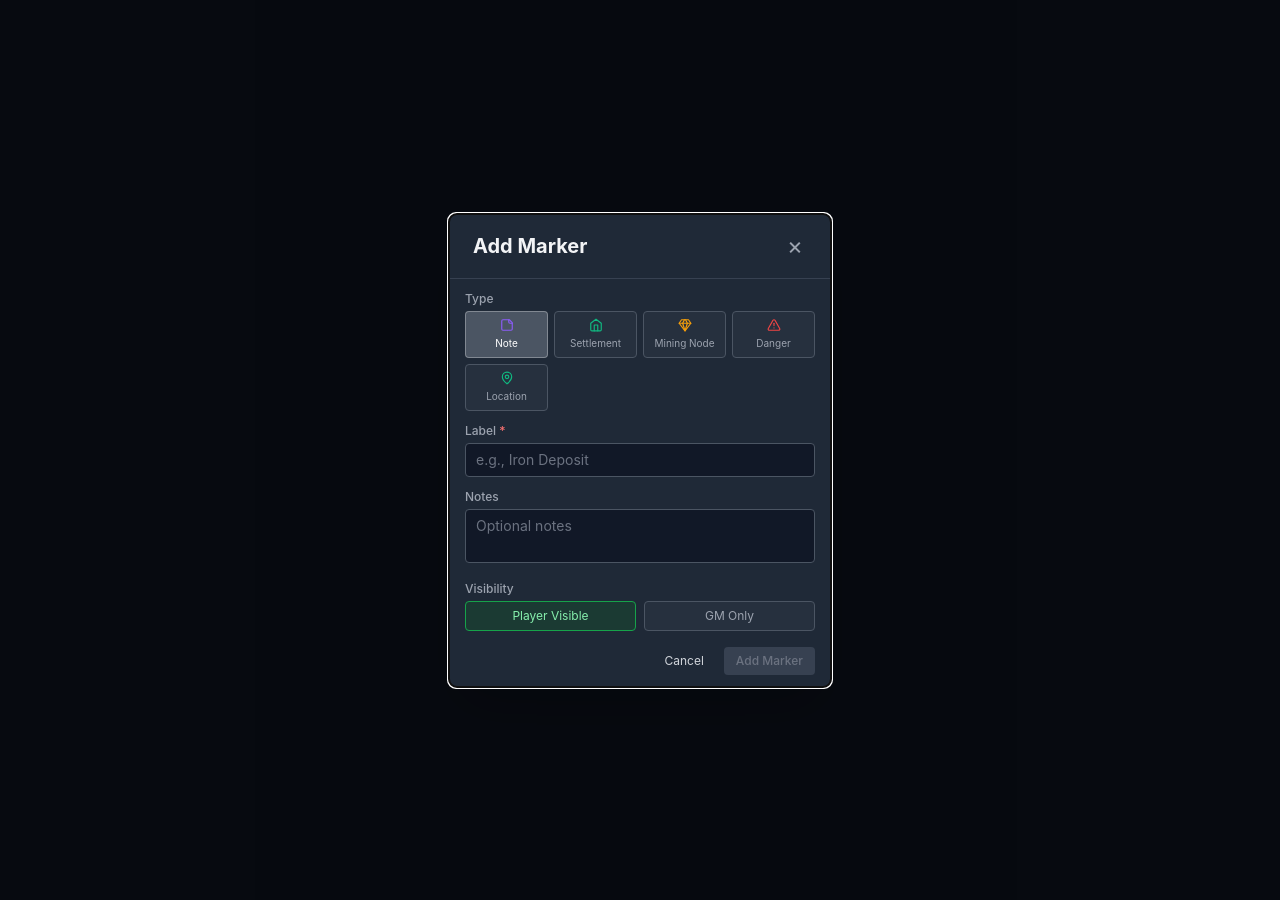
Test: MarkerEditor › validates label is required
Expected: the button "Add Marker" is disabled, [724,646,815,674]
Type "Iron Deposit" into the field with placeholder "e.g., Iron Deposit" at (640, 460), box [465,442,815,476]
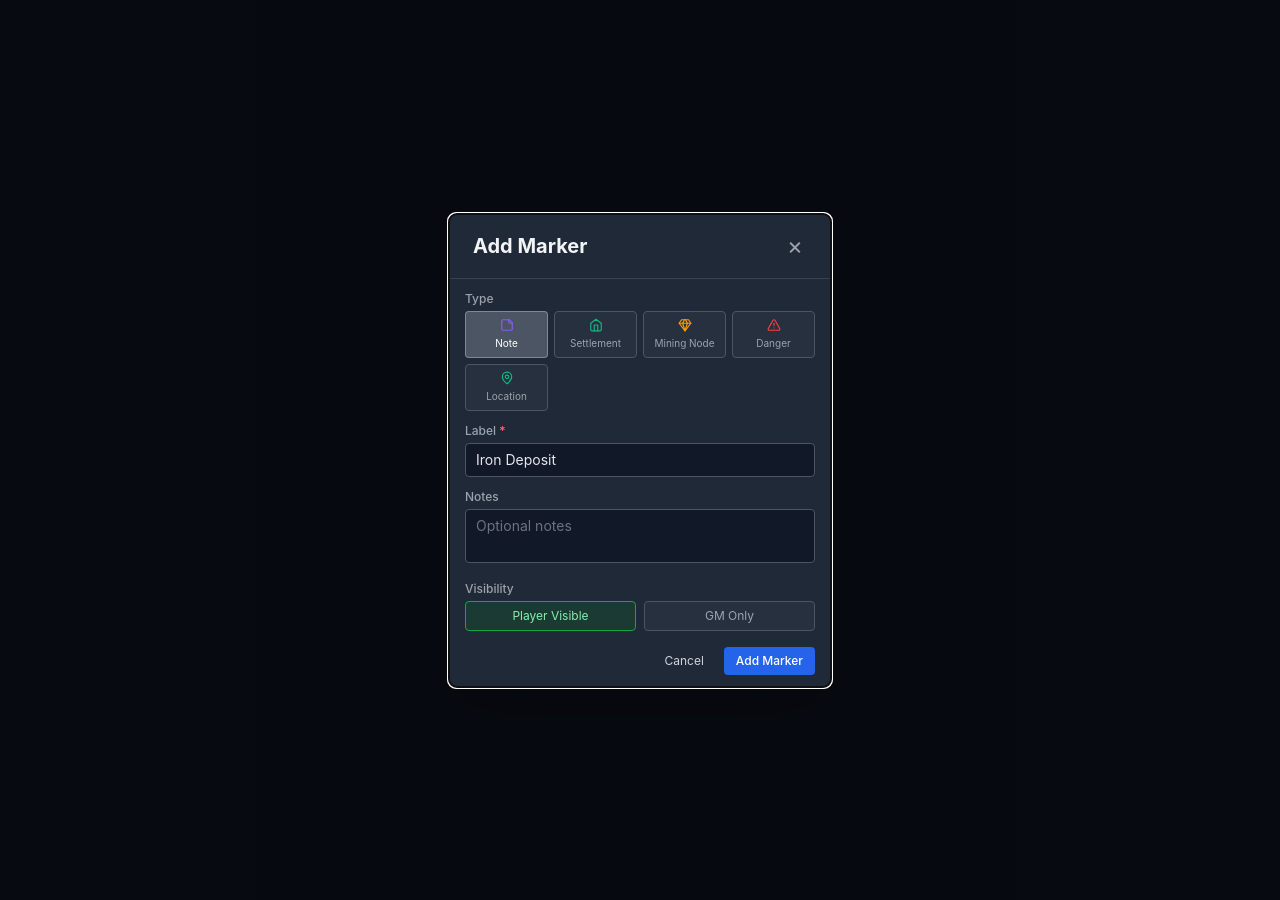
Expected: the button "Add Marker" is enabled, [724,646,815,674]
